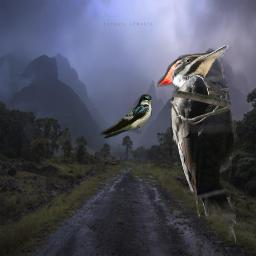Swallow: (101, 94, 152, 139)
Woodpecker: (157, 45, 236, 246)
